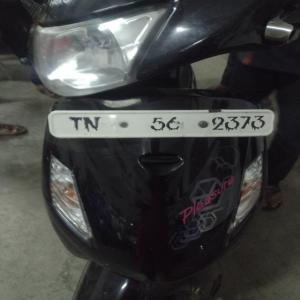Plate: (61, 109, 273, 138)
